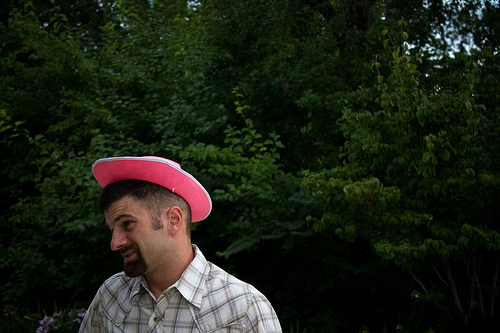without_mask: (97, 187, 199, 283)
